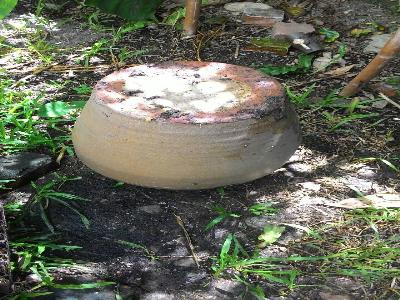bowl: (67, 58, 306, 194)
